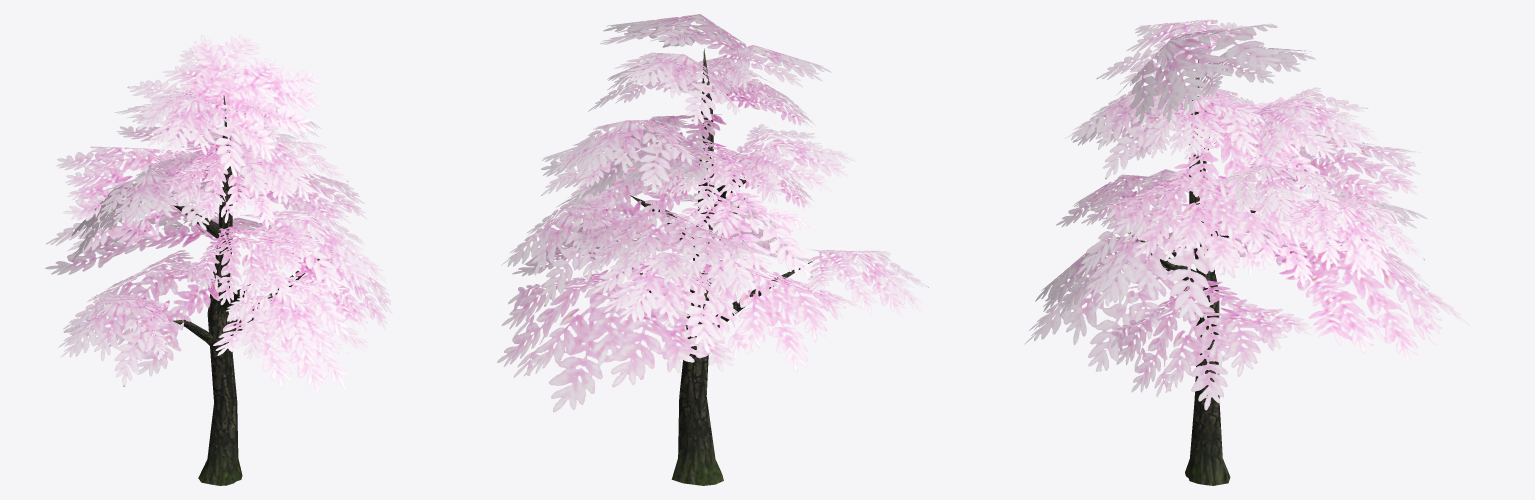
The model's file is c5_tree_2.FBX.
3 views of the same model, side by side, from view 1: azimuth 30°, elevation 25°; view 2: azimuth 150°, elevation 25°; view 3: azimuth 270°, elevation 25° (orthographic). The views are drawn at different scales.
Parts seen in each view (by area): view 1: c5_tree_2; view 2: c5_tree_2; view 3: c5_tree_2.
Boxes of the visible parts, x1,y1,x2,y2 form: c5_tree_2: (45, 35, 392, 485); c5_tree_2: (497, 14, 928, 485); c5_tree_2: (1024, 19, 1469, 485).
Bounding box in the file's own units: 297 × 290 × 299.
